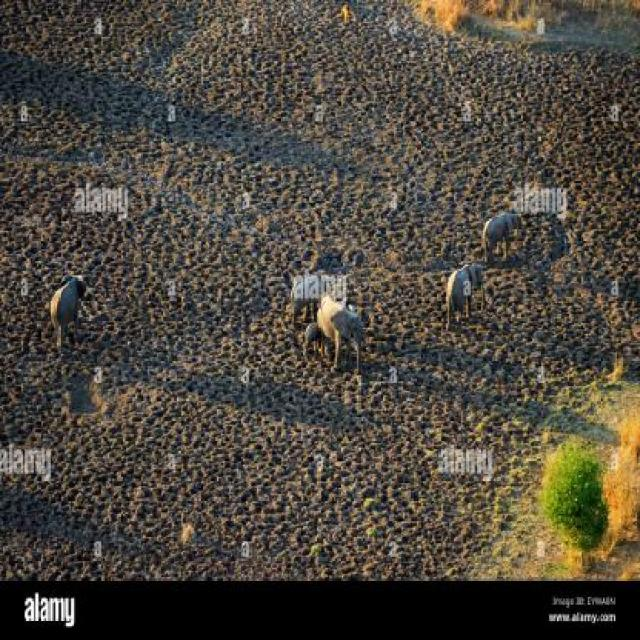elephant: (317, 282, 368, 384), (483, 196, 534, 273), (47, 264, 90, 345), (448, 245, 489, 327), (302, 317, 324, 358)
